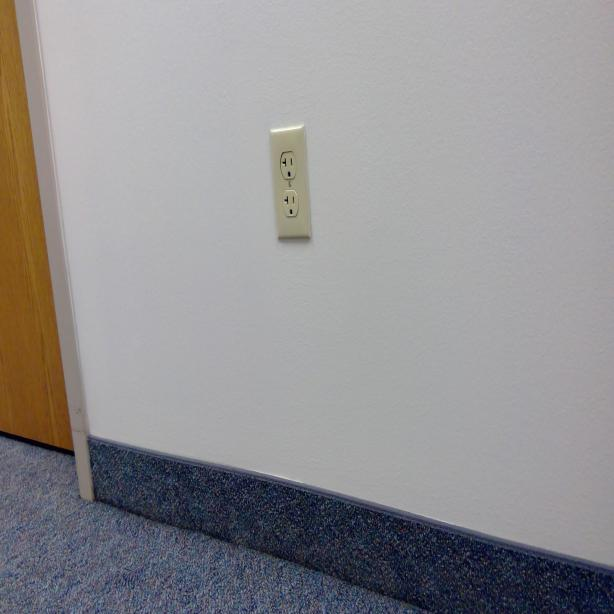typeb: (280, 152, 298, 182), (284, 187, 299, 217)
